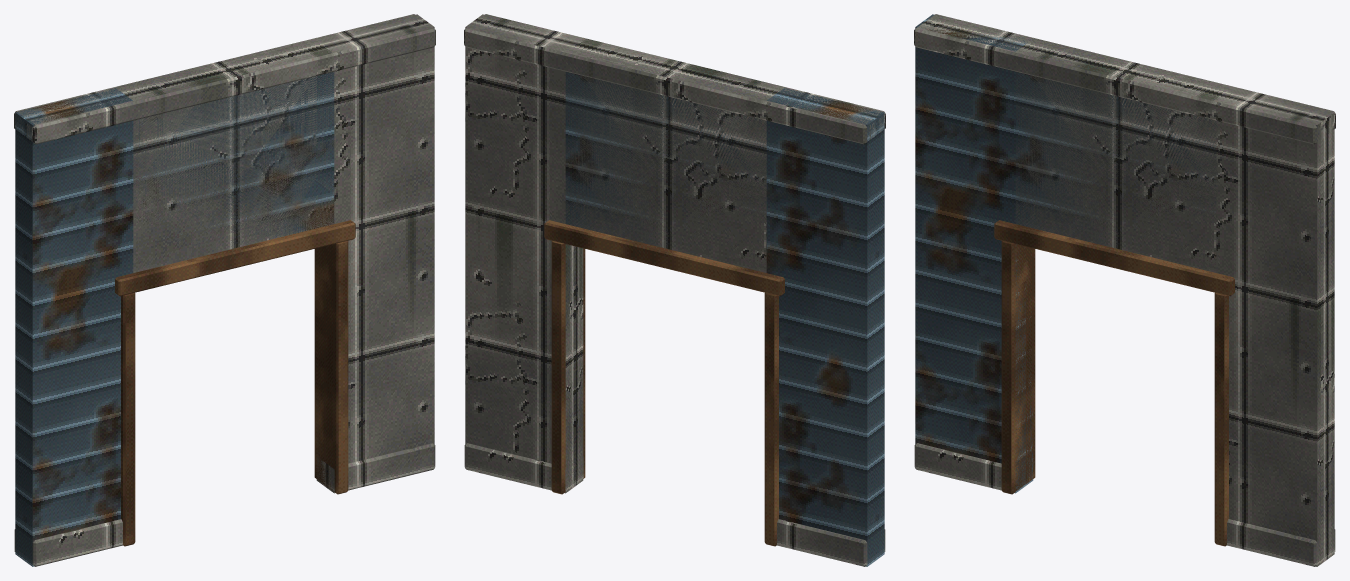
File: wall_siding_blue_window.glb
3 renders of one model, left to right at view 1: azimuth 30°, elevation 25°; view 2: azimuth 150°, elevation 25°; view 3: azimuth 330°, elevation 25°, orthographic.
Visible parts, largest first — view 1: wall_siding_blue_window_mesh, wall_siding_blue_window_col-colonly.001, wall_siding_blue_window_col-colonly.002; view 2: wall_siding_blue_window_mesh, wall_siding_blue_window_col-colonly.001, wall_siding_blue_window_col-colonly.002; view 3: wall_siding_blue_window_mesh, wall_siding_blue_window_col-colonly.001, wall_siding_blue_window_col-colonly.002.
Boxes of the visible parts, <box> form: wall_siding_blue_window_mesh: <box>14,14,435,566</box>; wall_siding_blue_window_col-colonly.001: <box>316,14,434,493</box>; wall_siding_blue_window_col-colonly.002: <box>116,39,334,272</box>; wall_siding_blue_window_mesh: <box>464,14,885,566</box>; wall_siding_blue_window_col-colonly.001: <box>465,14,583,493</box>; wall_siding_blue_window_col-colonly.002: <box>565,39,783,272</box>; wall_siding_blue_window_mesh: <box>914,14,1335,566</box>; wall_siding_blue_window_col-colonly.001: <box>1216,88,1334,566</box>; wall_siding_blue_window_col-colonly.002: <box>1015,39,1233,272</box>.
Size of what is drawn, in the model's own units: 4 by 4.2 by 0.44.
Materials: 3 (3 with a texture image).
